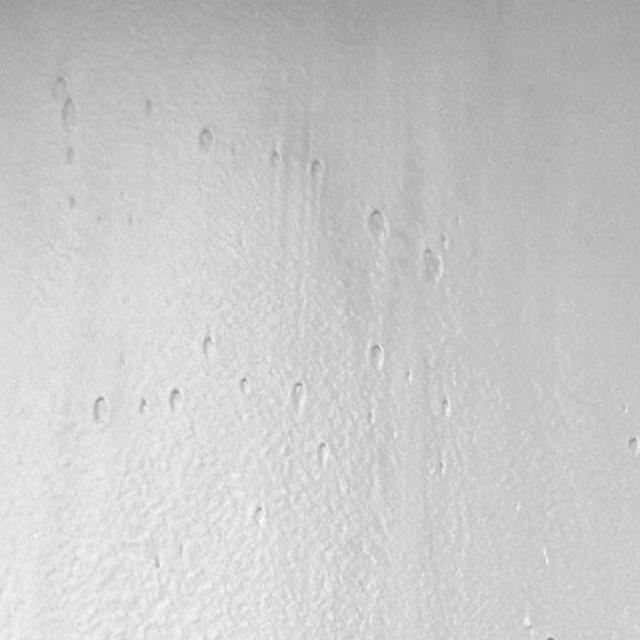pin holes: (88, 393, 113, 428), (365, 209, 390, 244), (419, 249, 444, 282), (58, 100, 80, 137), (286, 382, 308, 414), (166, 385, 187, 414), (197, 127, 218, 155), (311, 441, 332, 468), (368, 343, 388, 371), (266, 148, 286, 176), (199, 333, 218, 361), (142, 98, 162, 124), (310, 159, 328, 185), (249, 504, 268, 528), (438, 395, 455, 420), (137, 394, 153, 420), (625, 434, 640, 459), (53, 75, 70, 97), (65, 192, 82, 214), (238, 374, 254, 397), (433, 458, 449, 481), (63, 147, 79, 169), (439, 233, 453, 251), (403, 368, 415, 385)
